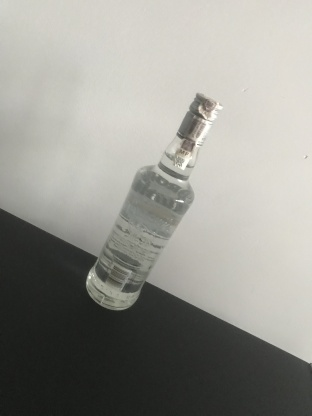nakretka: (174, 91, 224, 147)
